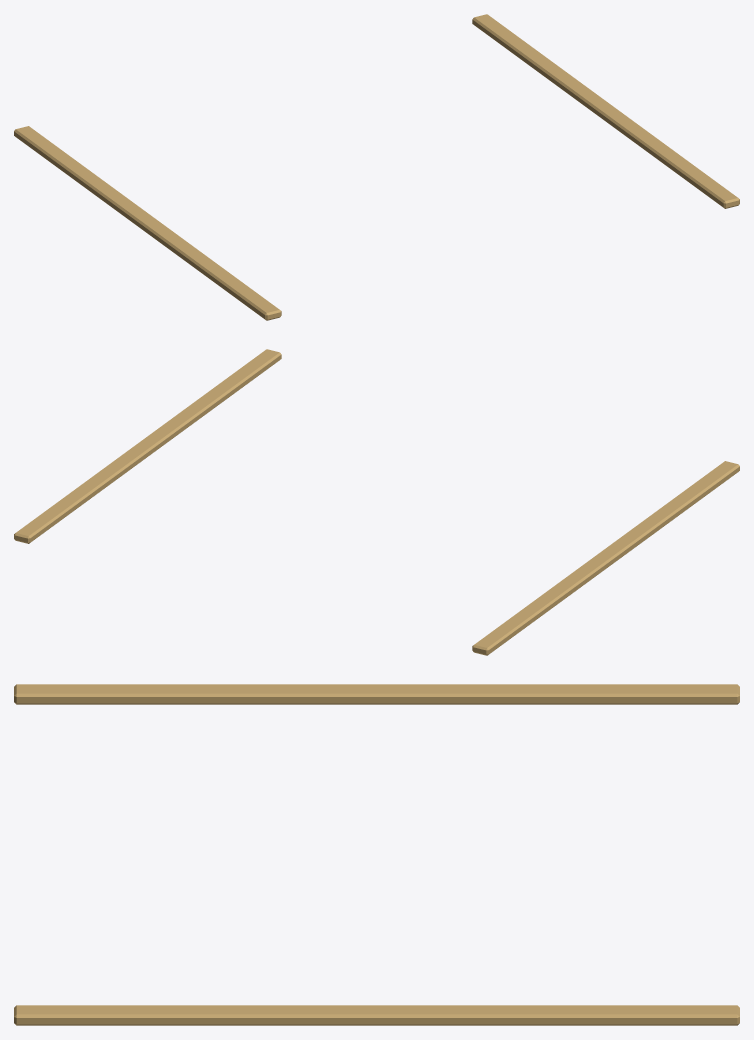
The model's file is eq01_level_1.glb.
The picture shows the model from 3 angles, top to bottom: view 1: azimuth 30°, elevation 25°; view 2: azimuth 150°, elevation 25°; view 3: azimuth 270°, elevation 25°; orthographic projection. The views are drawn at different scales.
Visible parts, largest first — view 1: eq01_level_1; view 2: eq01_level_1; view 3: eq01_level_1.
Part boxes in pixels (x1,y1,x2,y2): eq01_level_1: (14, 14, 739, 320); eq01_level_1: (14, 349, 739, 655); eq01_level_1: (14, 684, 739, 1025).
Size of the model in its own units: 3.17 by 0.05 by 2.93.
